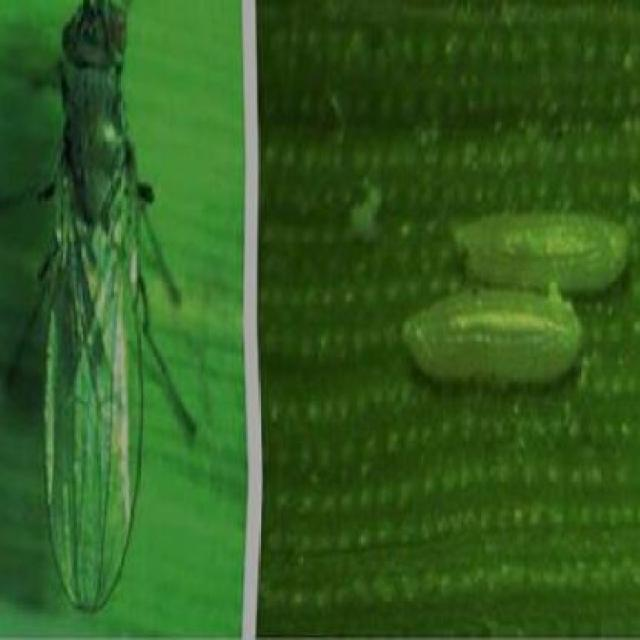whorl-maggot: (394, 283, 586, 397), (452, 194, 636, 297)
